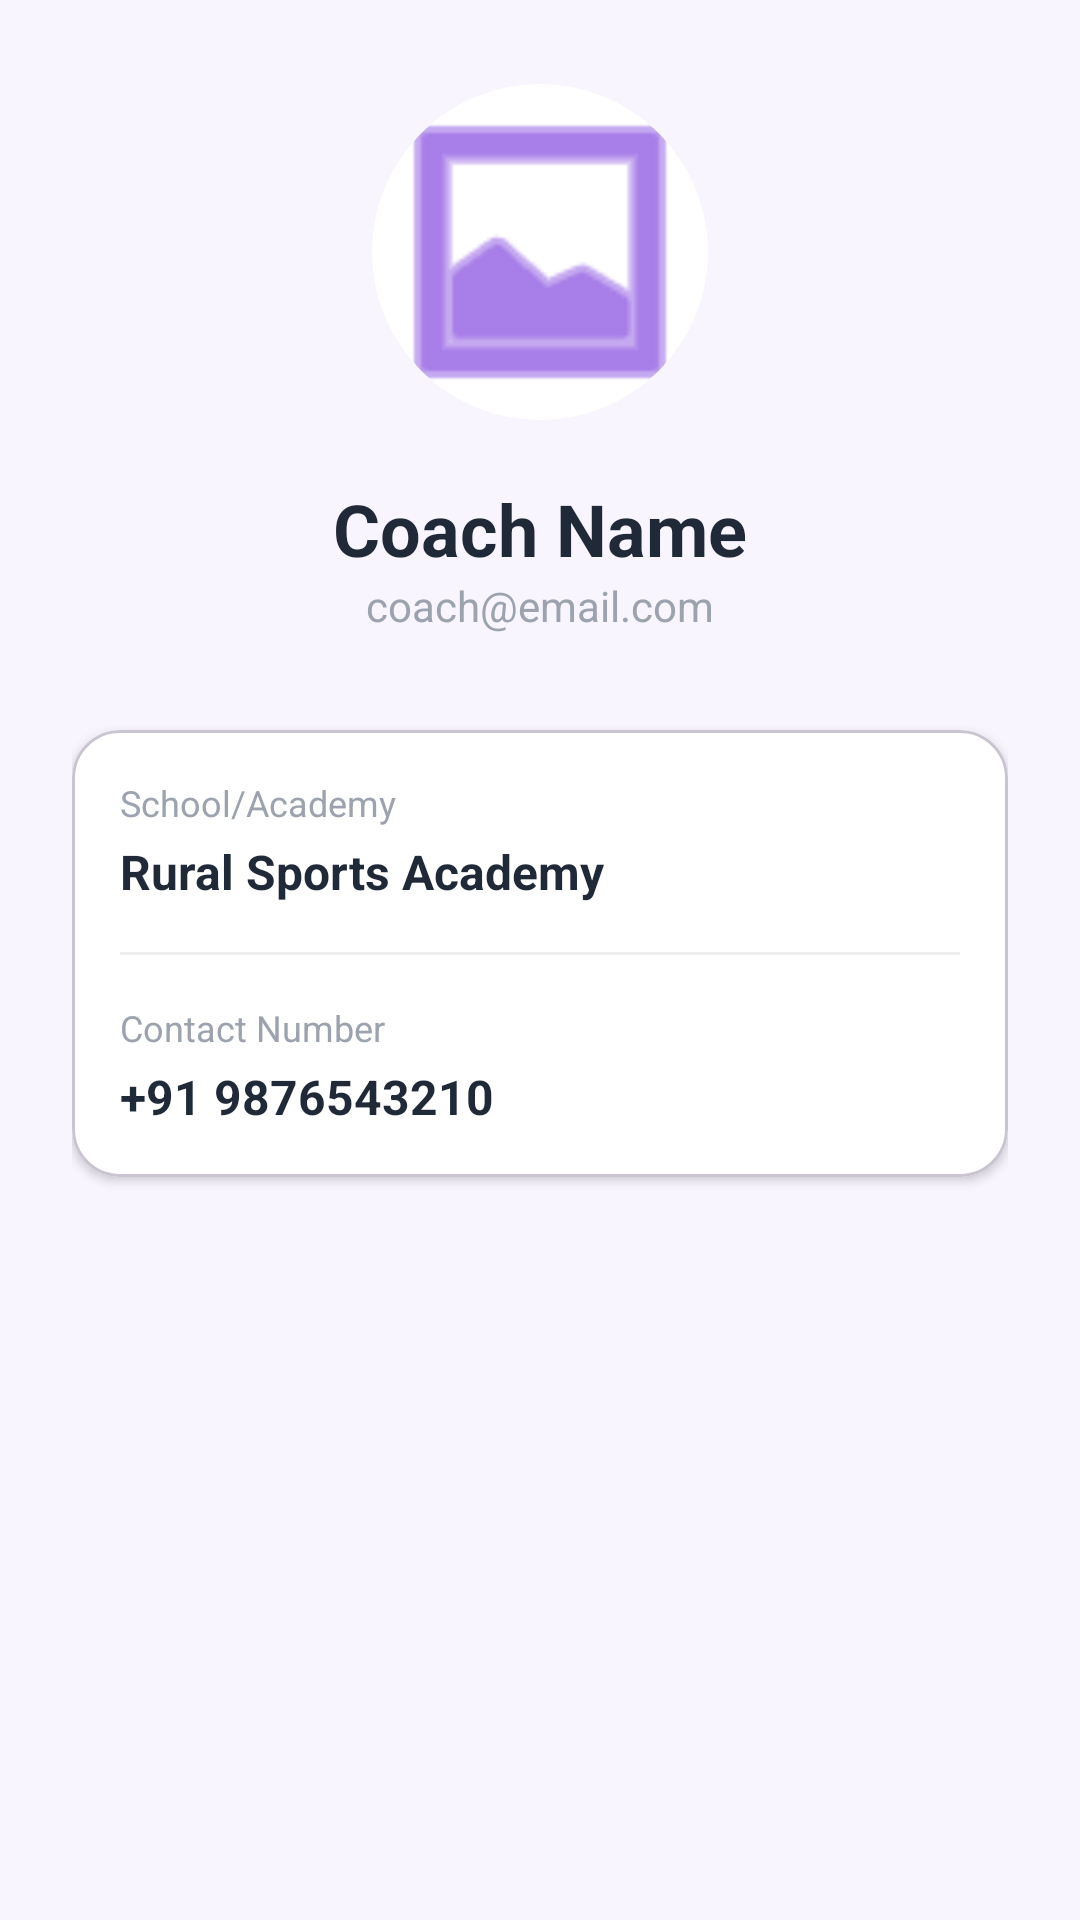

Screen size 1080 × 1920. Icon name, then its box in pixels as (x1, y1, x2, y2):
gallery: (414, 126, 666, 378)
